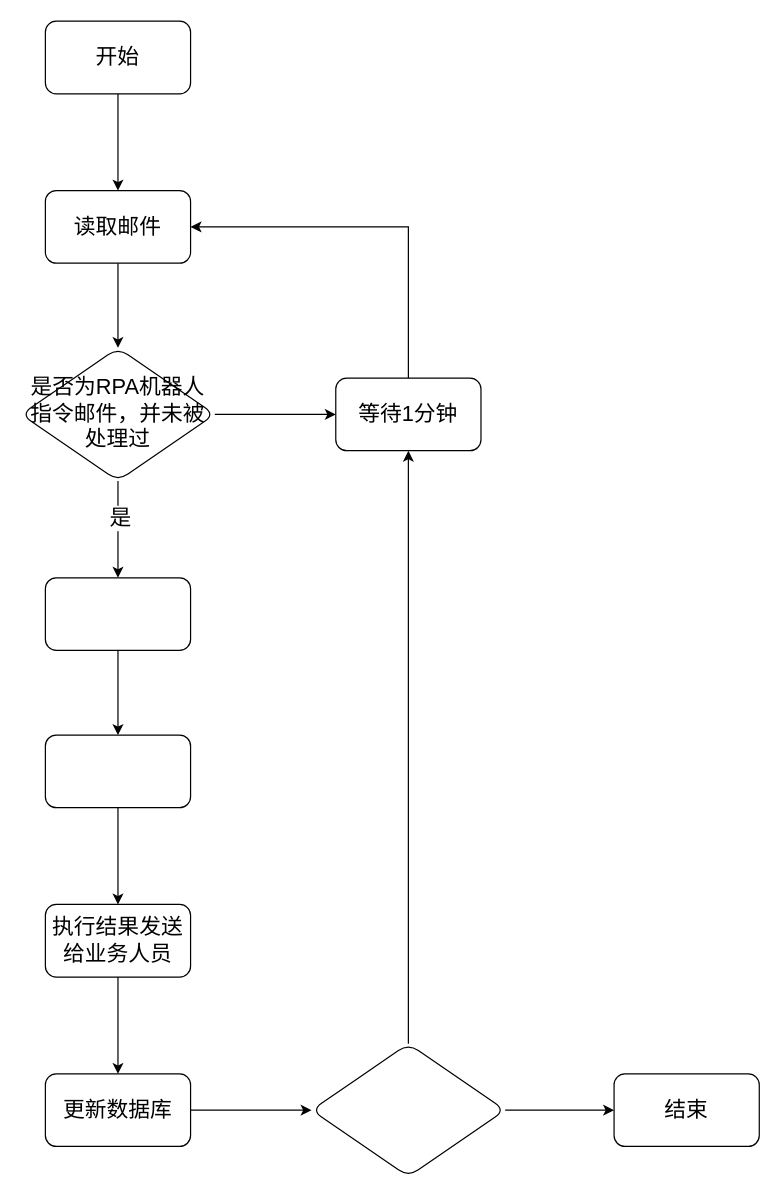
Some shapes in this 780 by 1198 pixel diagram are drawn without their labels. The shapes that lost their labels are listed below. From the top down, each one's box as (x1, y1, x2, y2) in pixels, then its label:
(44, 577, 191, 650): 调用RPA机器人API接口
(44, 734, 191, 808): RPA机器人执行指定任务
(310, 1042, 505, 1177): 是否满足结束条件
